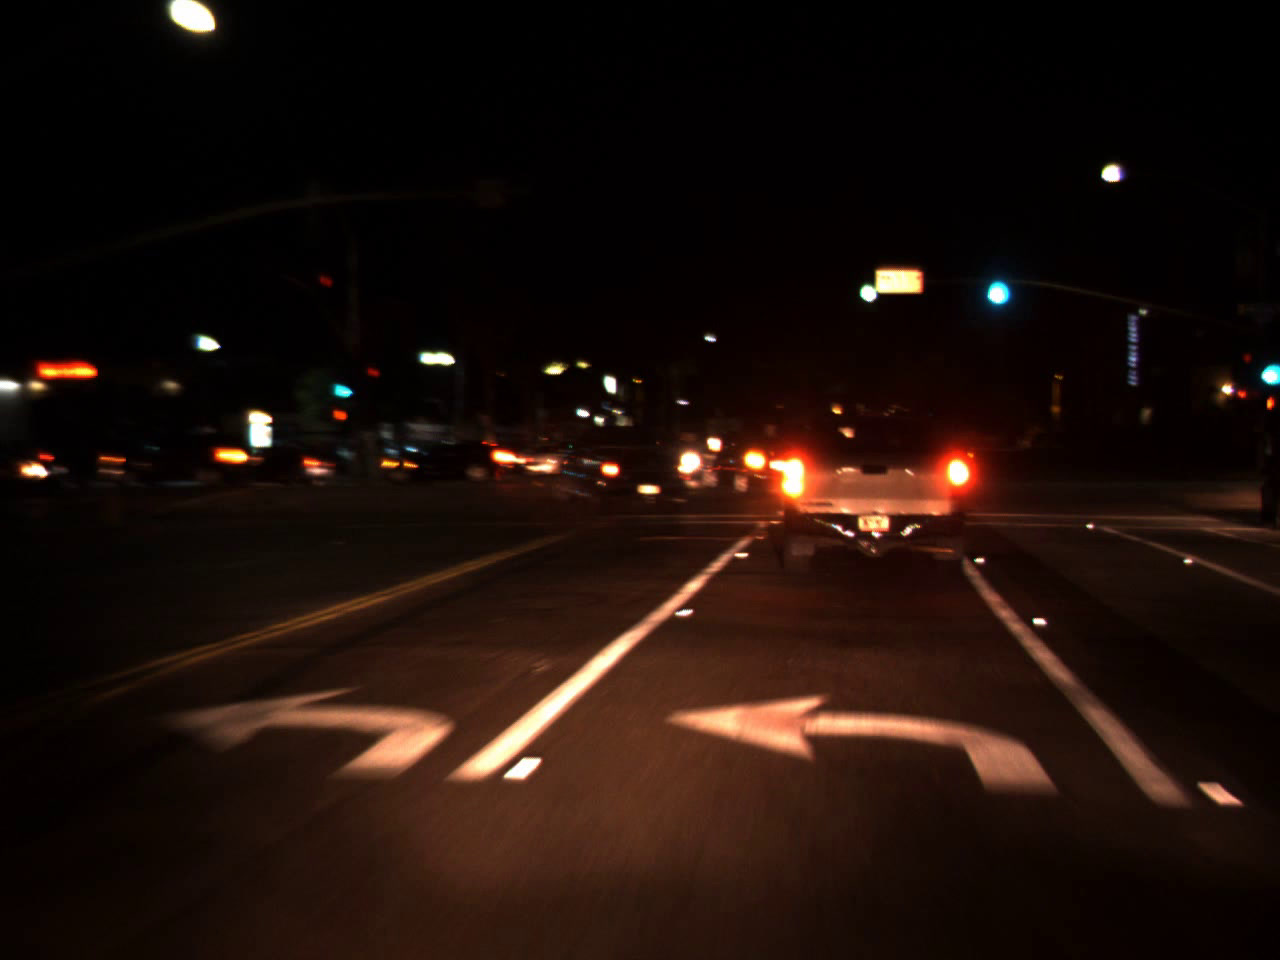go: (978, 253, 1014, 313), (853, 265, 880, 307), (328, 371, 356, 401)
